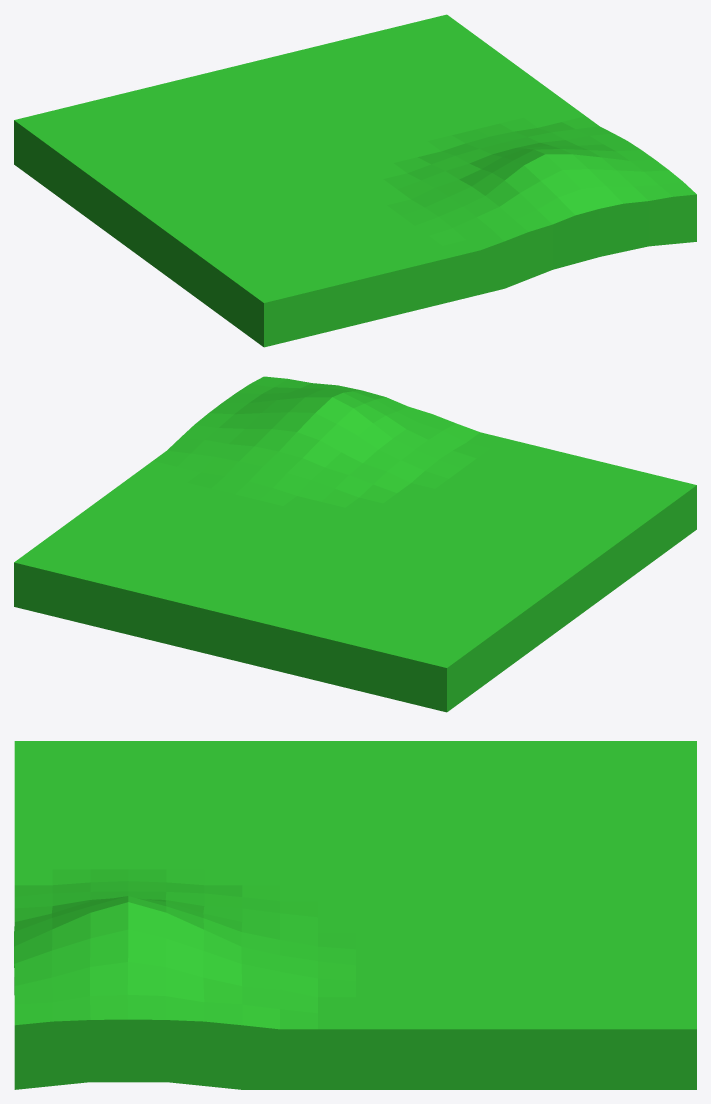
File: hill2.obj
The picture shows the model from 3 angles, top to bottom: view 1: azimuth 30°, elevation 25°; view 2: azimuth 150°, elevation 25°; view 3: azimuth 270°, elevation 25°; orthographic projection. The views are drawn at different scales.
Parts seen in each view (by area): view 1: Grid; view 2: Grid; view 3: Grid.
Part boxes in pixels (x1,y1,x2,y2): Grid: (14,14,696,347); Grid: (14,376,696,712); Grid: (14,741,696,1089).
Bounding box in the file's own units: 73.31 × 13.59 × 73.39.
Materials: 1 (1 with a texture image).
